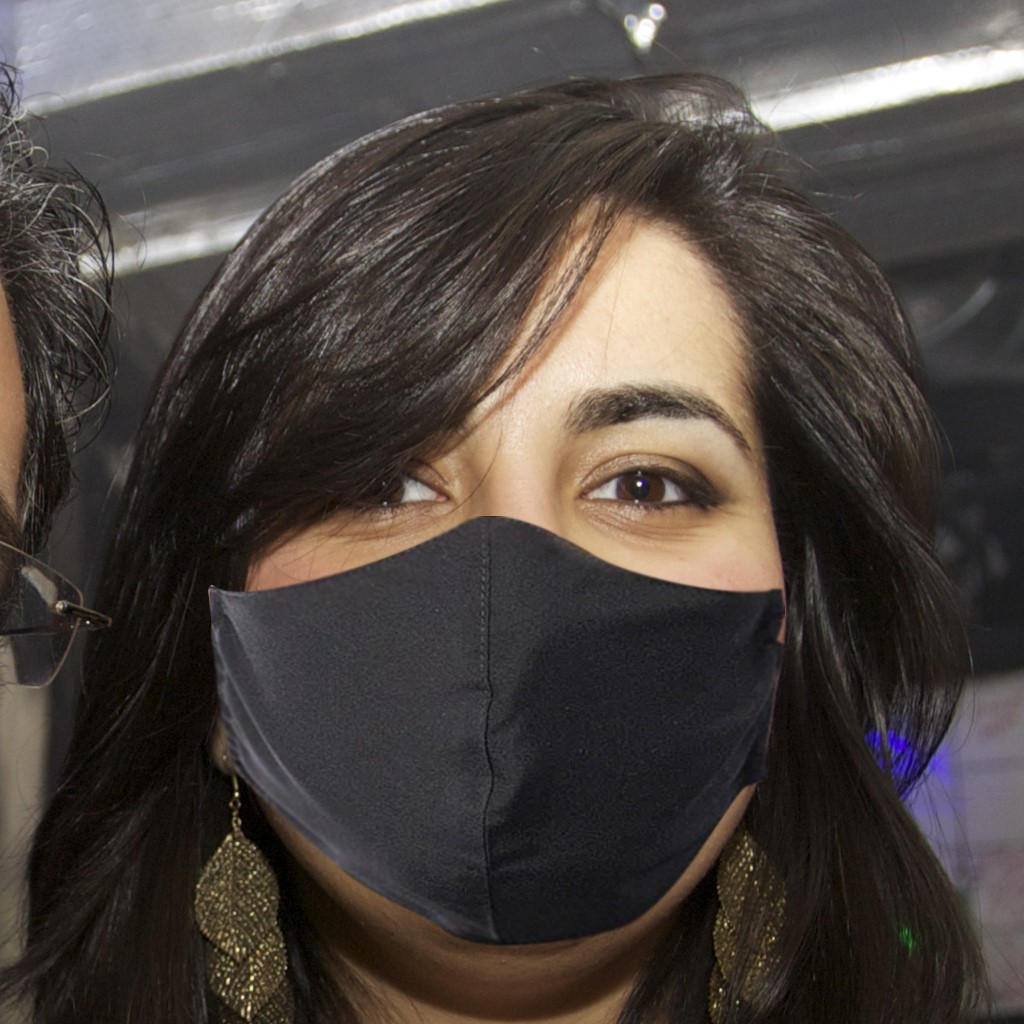con_mascara: (239, 186, 780, 954)
